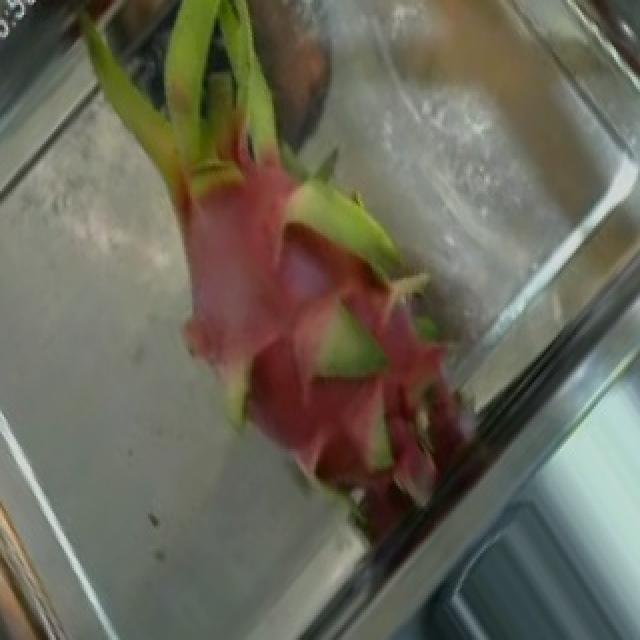fruit: (42, 2, 480, 456)
